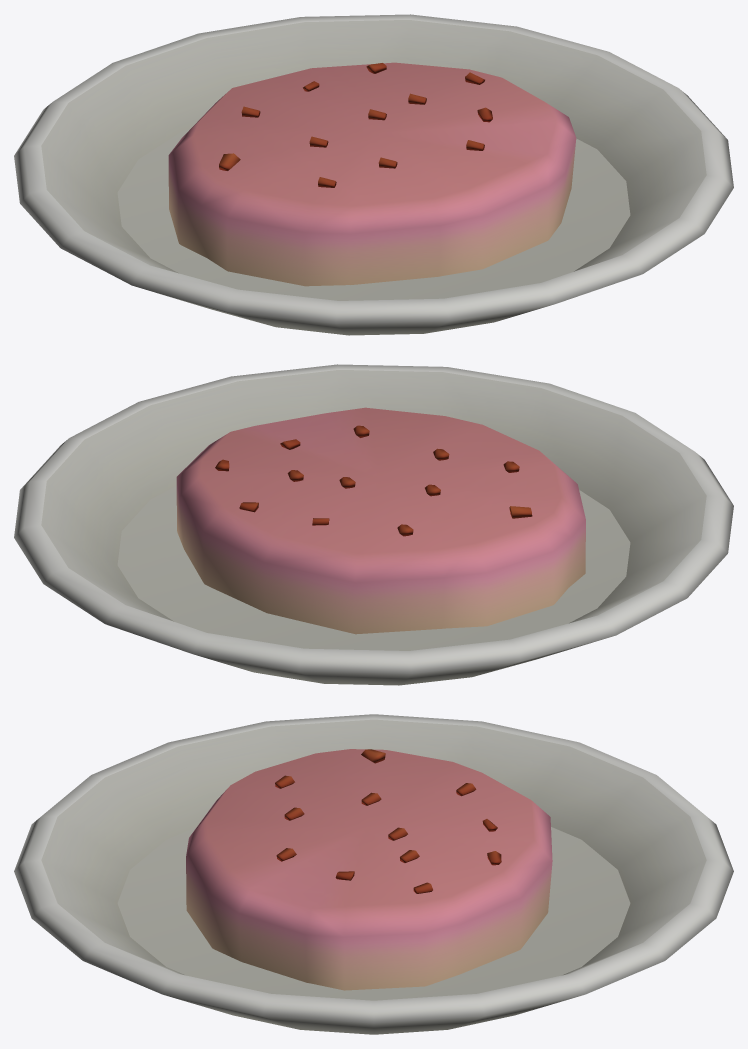
File: depressing_cake.glb
The picture shows the model from 3 angles, top to bottom: view 1: azimuth 30°, elevation 25°; view 2: azimuth 150°, elevation 25°; view 3: azimuth 270°, elevation 25°; orthographic projection.
Visible parts, largest first — view 1: SM_Dish_A.018, SM_Food_Sweets_02; view 2: SM_Dish_A.018, SM_Food_Sweets_02; view 3: SM_Dish_A.018, SM_Food_Sweets_02.
Boxes of the visible parts, x1,y1,x2,y2 form: SM_Dish_A.018: (14,14,733,335); SM_Food_Sweets_02: (168,62,576,286); SM_Dish_A.018: (14,364,733,685); SM_Food_Sweets_02: (176,407,585,634); SM_Dish_A.018: (14,714,733,1034); SM_Food_Sweets_02: (186,749,552,990).
Size of the model in its own units: 0.7473 by 0.1289 by 0.7473.
1 material, 1 textured.
